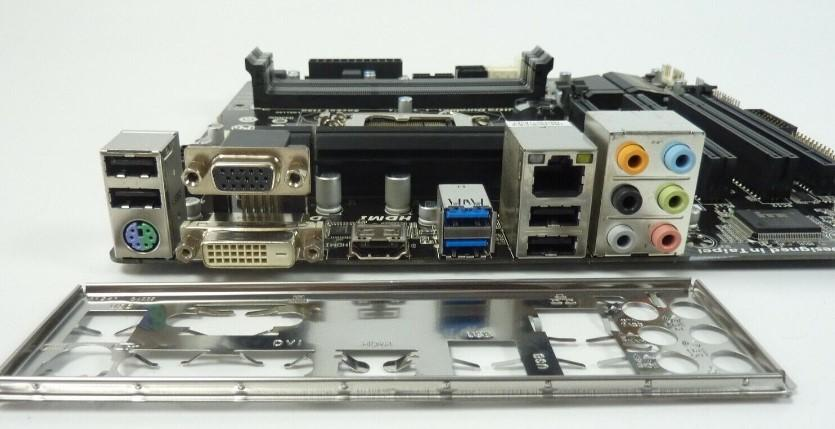Printed Circuit Board PCB: (100, 46, 835, 269)
